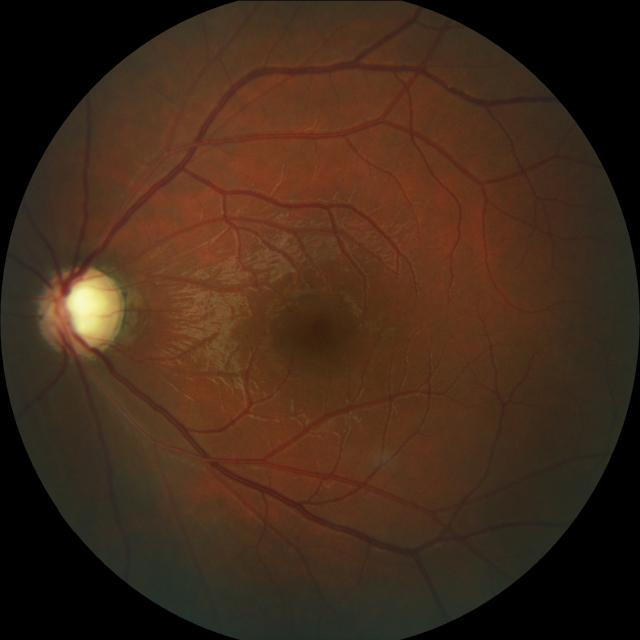OC: (45, 275, 117, 346)
OD: (39, 264, 124, 355)
